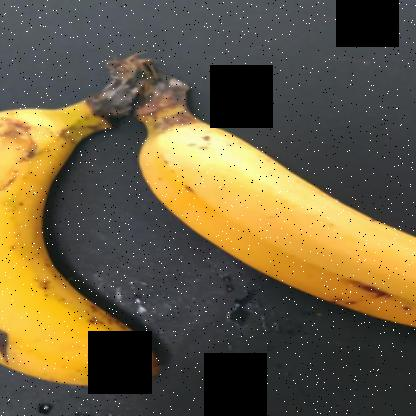freshripe: (129, 127, 415, 375)
ripe: (1, 83, 151, 408)
